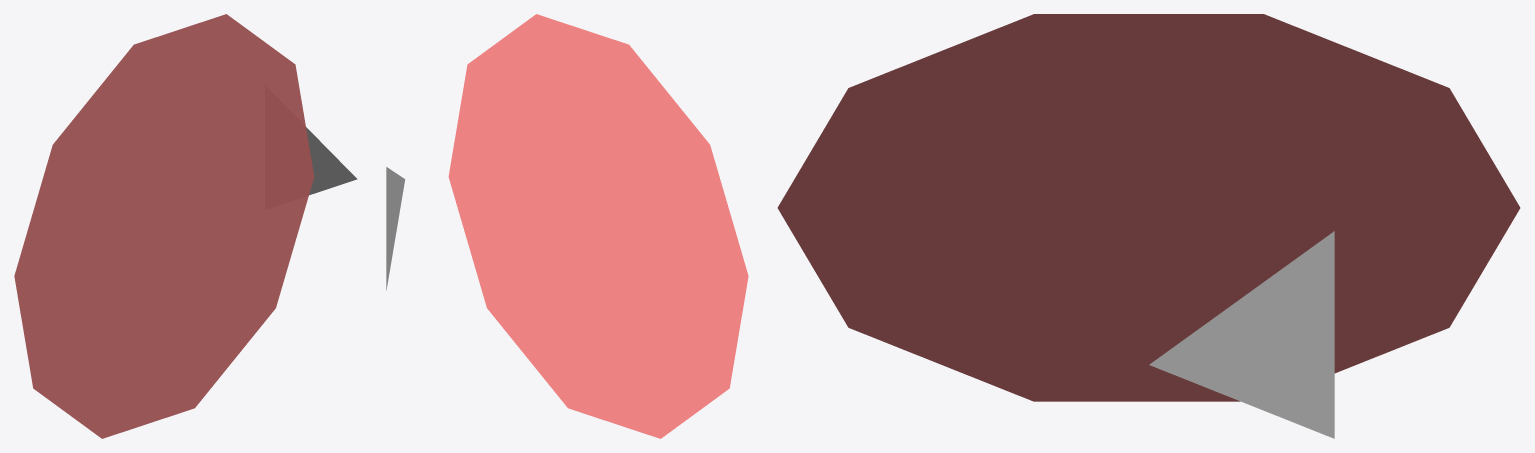
The model's file is SmallIcosihemidodecahedronF.obj.
3 renders of one model, left to right at view 1: azimuth 30°, elevation 25°; view 2: azimuth 150°, elevation 25°; view 3: azimuth 270°, elevation 25°, orthographic. The views are drawn at different scales.
Size of the model in its own units: 2.43 by 2.62 by 3.24.
